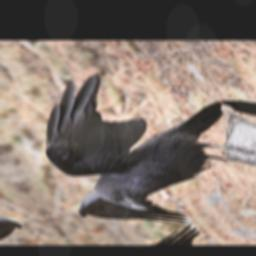Crow: (0, 57, 256, 239)
